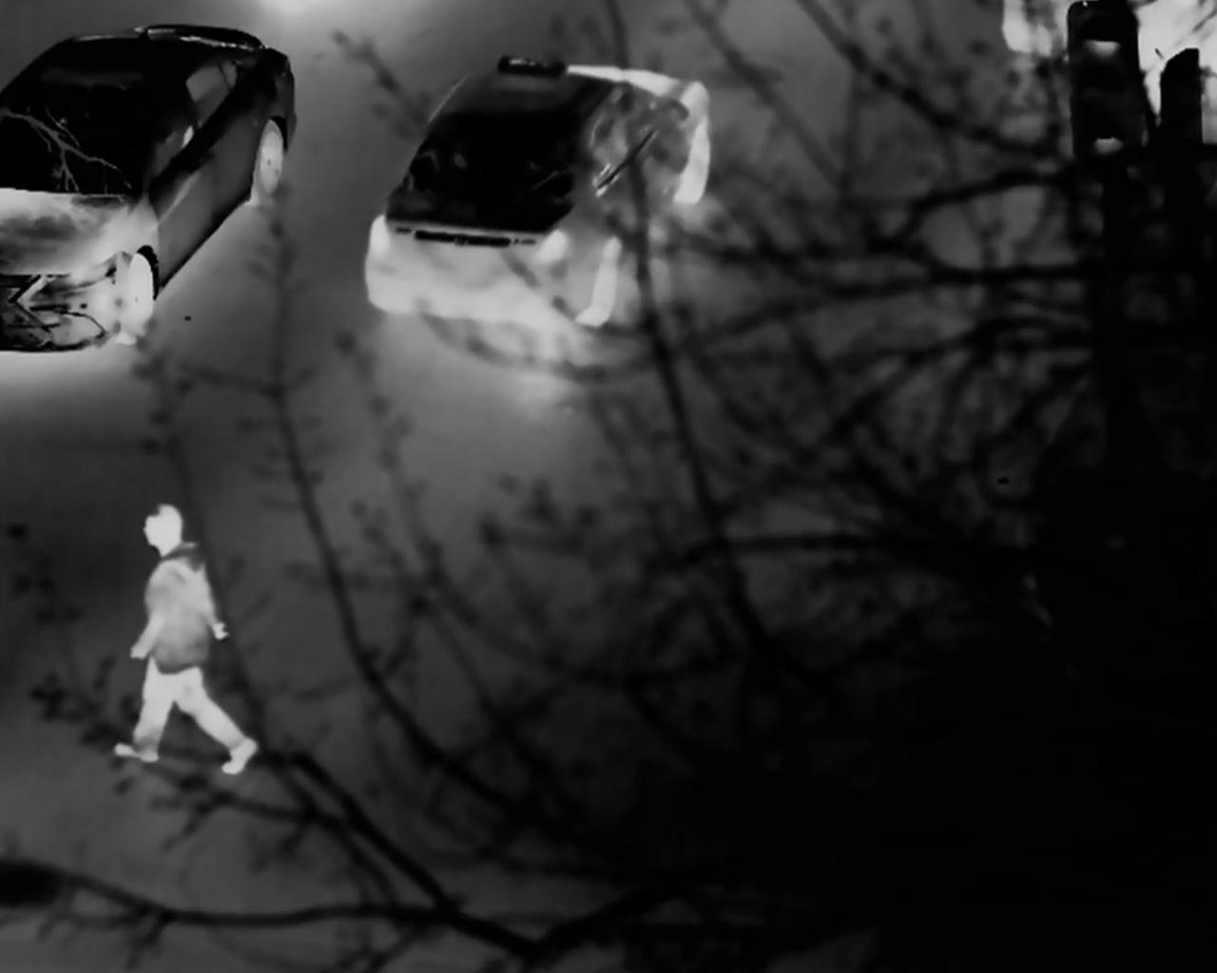person: (115, 508, 255, 780)
